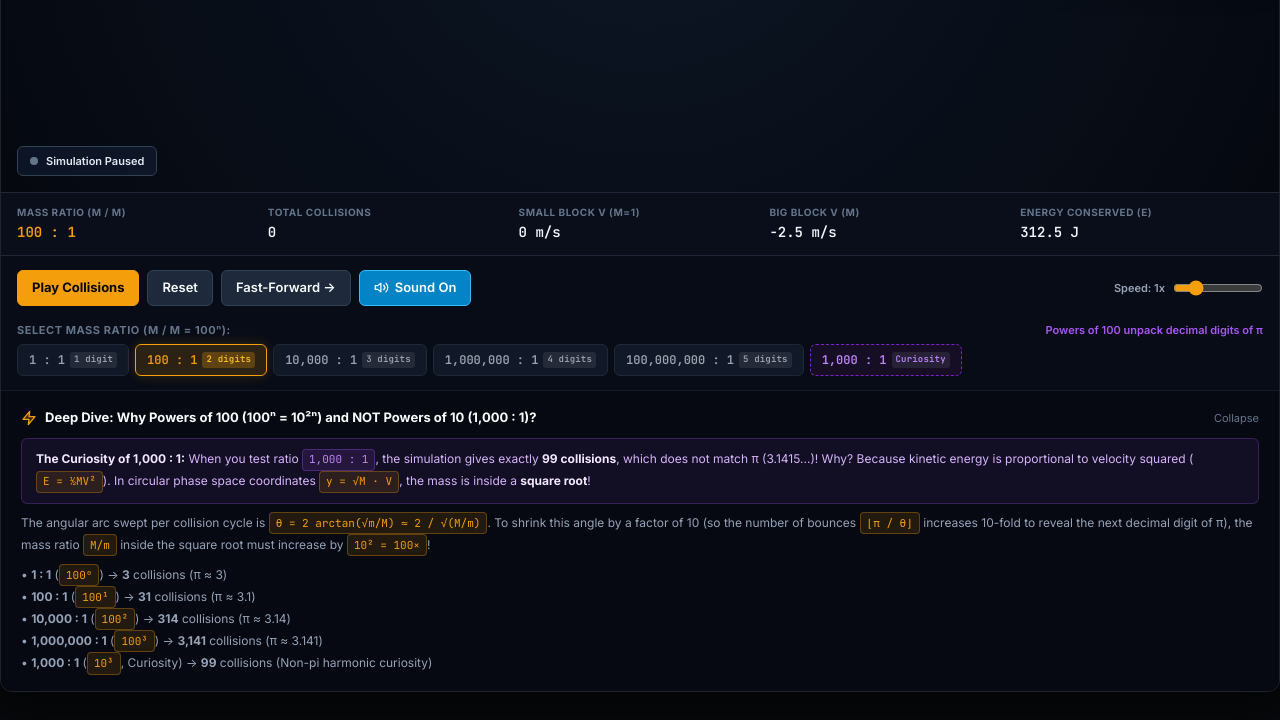
PiCollisions3DLab › demonstrates the 1,000 : 1 curiosity case yielding exactly 99 collisions rather than pi digits
(page scrolled)
Click the button "1,000 : 1 Curiosity". click: [886, 360]
box: [810,344,962,376]
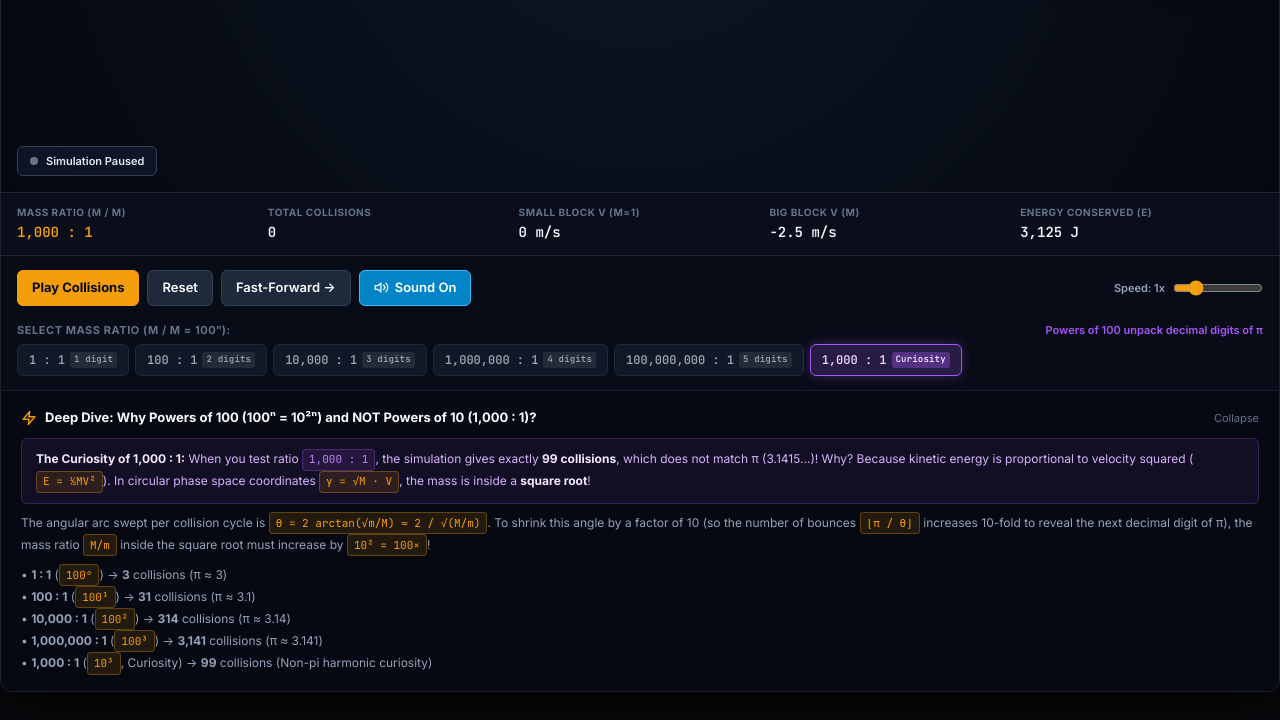
Click the button "Fast-Forward →". click: [286, 288]
box: [221,270,351,306]
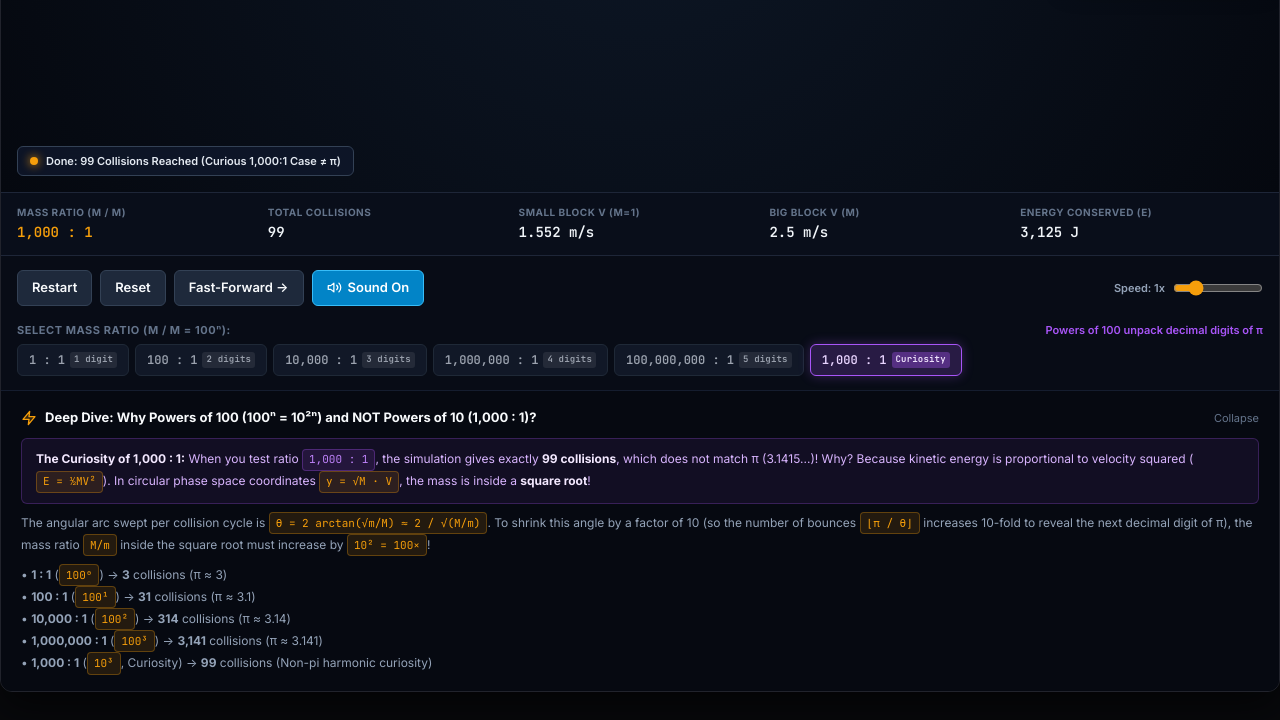
Now the text "Done: 99 Collisions Reached (Curious 1,000:1 Case ≠ π)" is shown, box [46,152,341,169]
